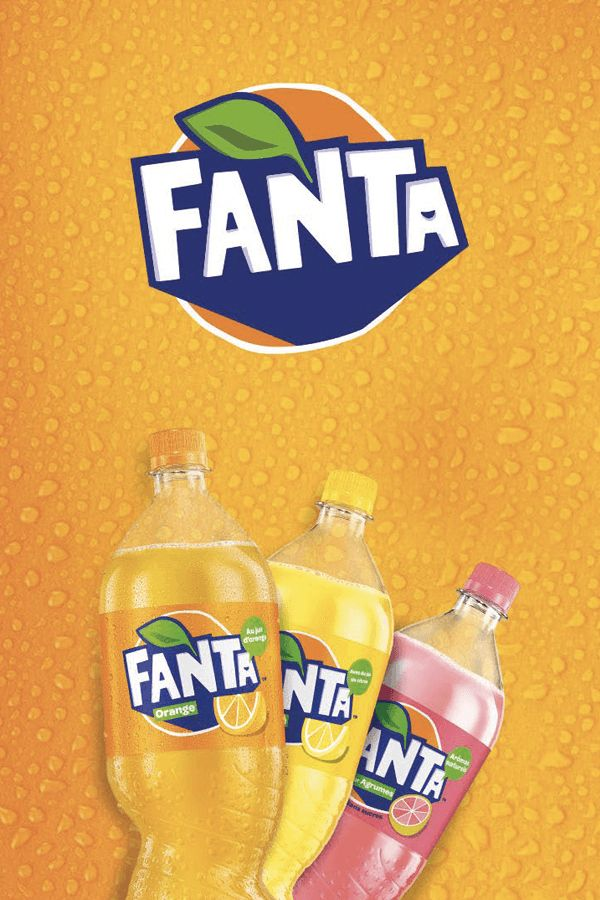Fanta: (62, 421, 292, 898), (360, 557, 512, 900), (264, 475, 371, 888)
